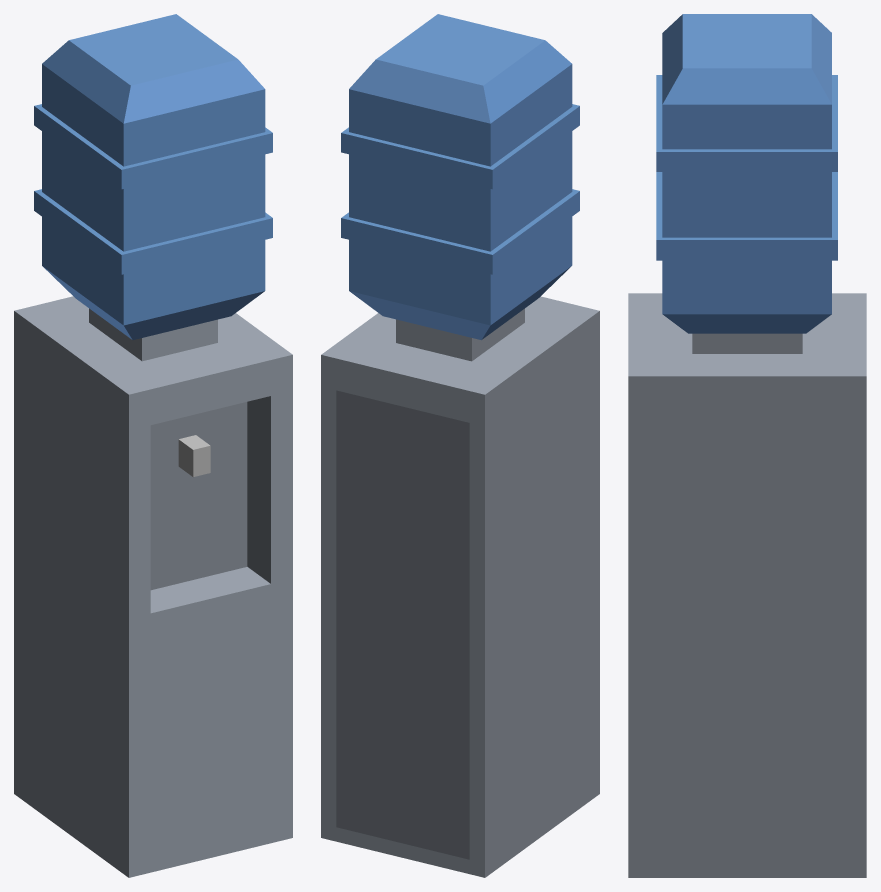
Rendered from SO_WaterCooler_01.fbx.
The picture shows the model from 3 angles, left to right: view 1: azimuth 30°, elevation 25°; view 2: azimuth 150°, elevation 25°; view 3: azimuth 270°, elevation 25°; orthographic projection. The views are drawn at different scales.
Parts seen in each view (by area): view 1: SO_WaterCooler_01; view 2: SO_WaterCooler_01; view 3: SO_WaterCooler_01.
Part boxes in pixels (x1,y1,x2,y2): SO_WaterCooler_01: (14, 14, 292, 877); SO_WaterCooler_01: (321, 14, 599, 877); SO_WaterCooler_01: (628, 14, 866, 877).
Bounding box in the file's own units: 0.6608 × 2.95 × 0.8007.
